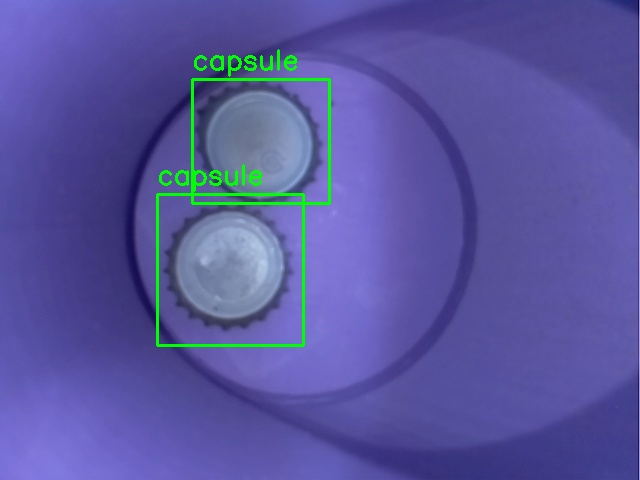capsule: (157, 194, 303, 345), (192, 79, 329, 203)
